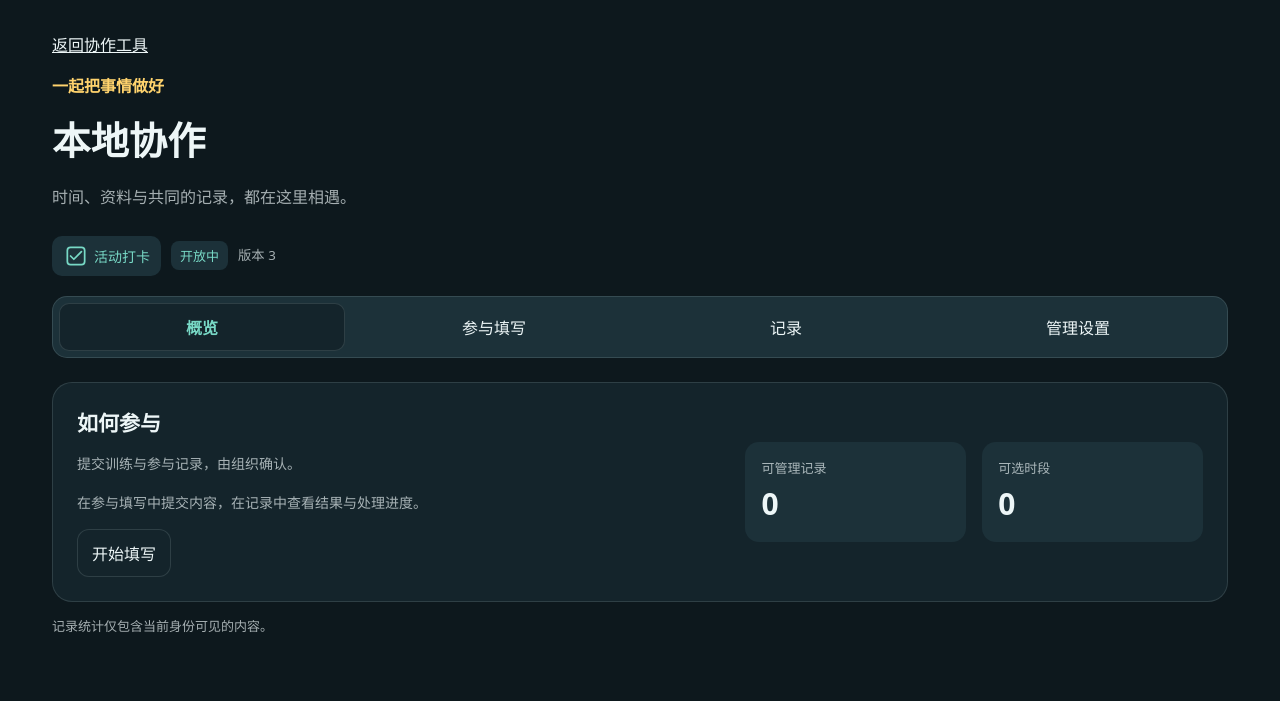
requires confirmation to close collection and hides participation once closed
Click the tab "管理设置". click: (1078, 326)
box: [935, 302, 1221, 350]
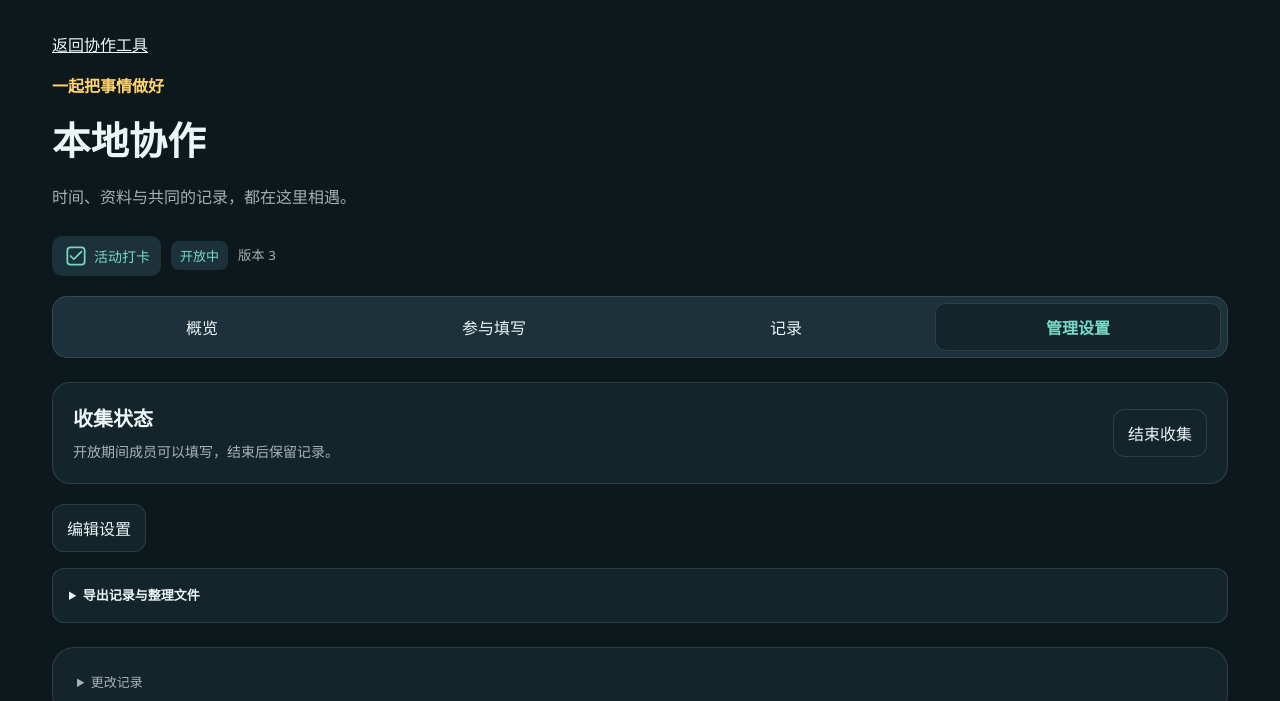
Click the button "结束收集". click: (1160, 433)
box: [1113, 409, 1207, 457]
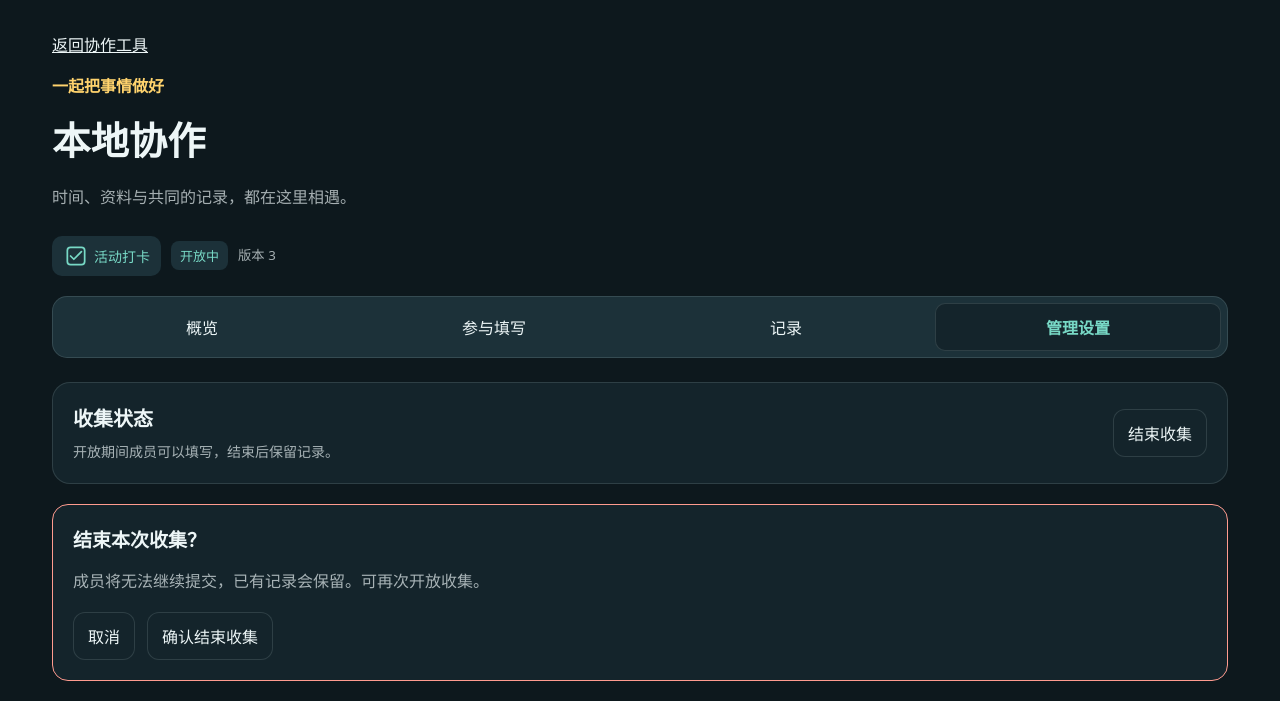
Click the button "确认结束收集". click: (210, 636)
box: [147, 612, 273, 660]
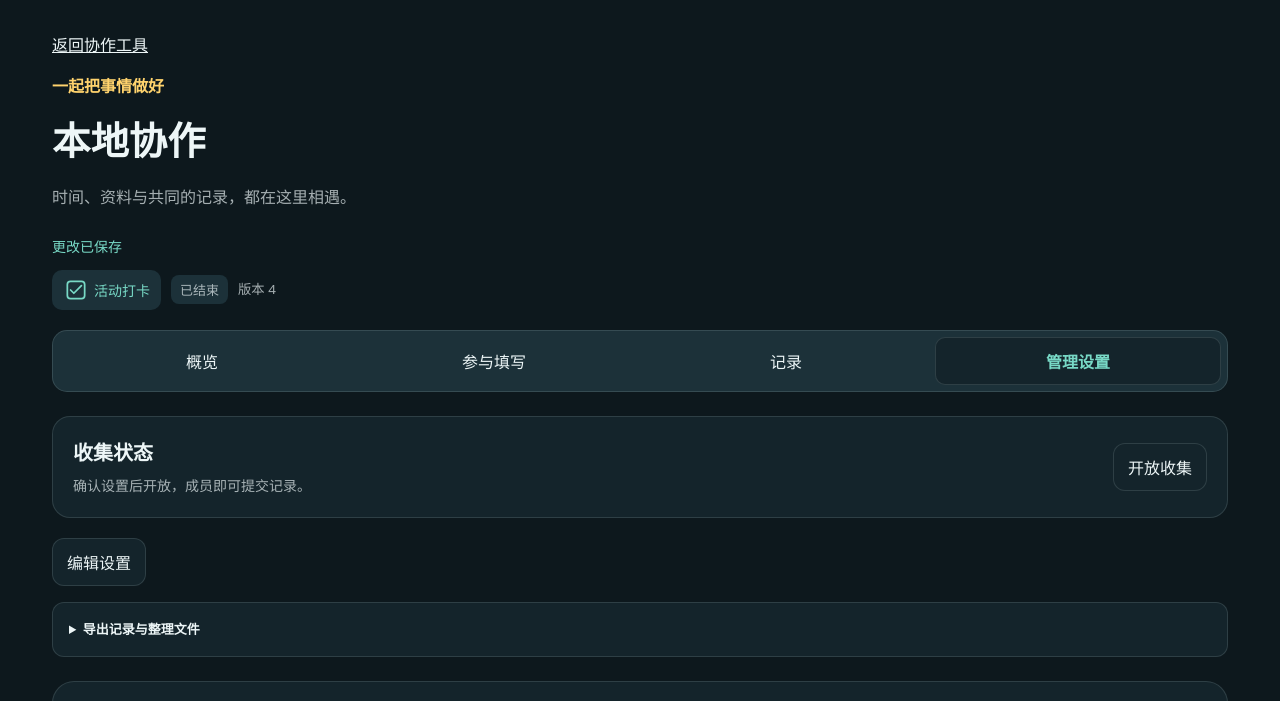
Click the tab "参与填写". click: (494, 360)
box: [351, 336, 637, 384]
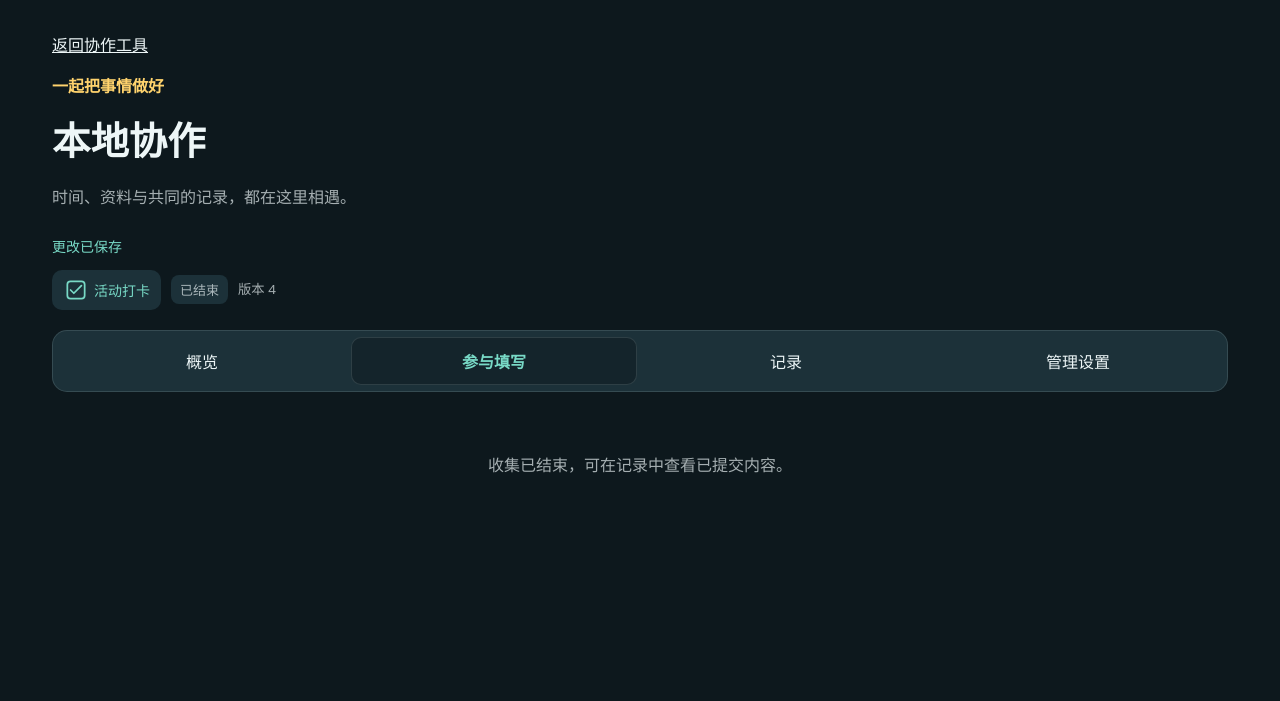
Result: the text "提交记录" is gone
Result: the text "收集已结束，可在记录中查看已提交内容。" is shown at [488, 454, 792, 476]
